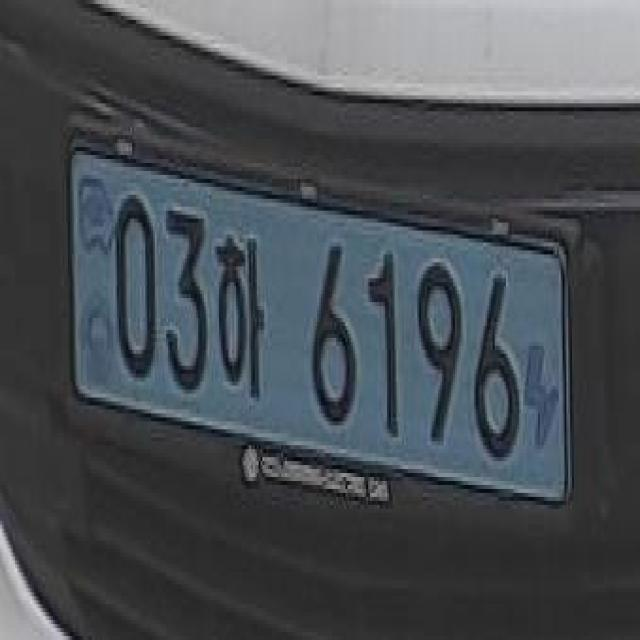EV_plate: (66, 130, 579, 539)
